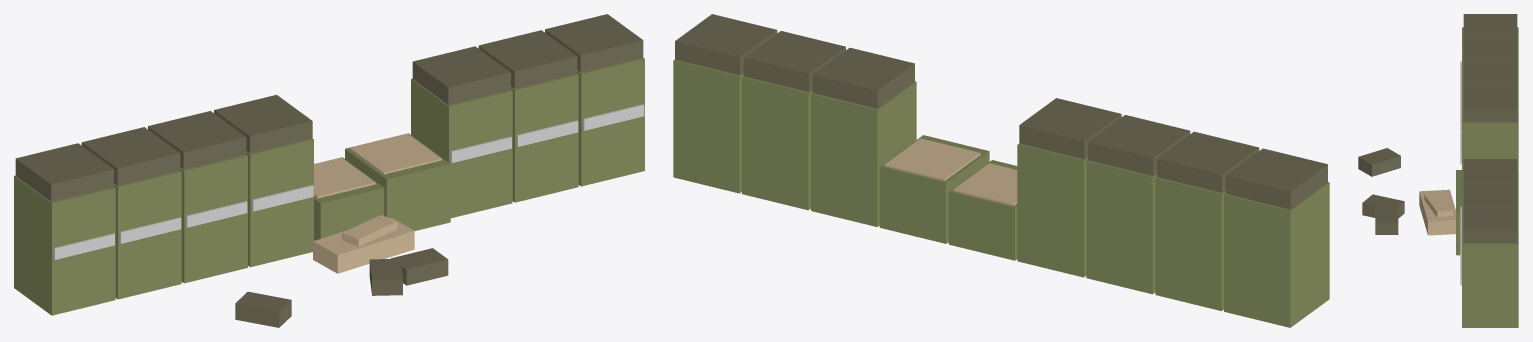
The model's file is SM_MuroHesco_v3_RemateSacos_e1_Danado_LOD1.fbx.
The picture shows the model from 3 angles, left to right: view 1: azimuth 30°, elevation 25°; view 2: azimuth 150°, elevation 25°; view 3: azimuth 270°, elevation 25°; orthographic projection. The views are drawn at different scales.
Visible parts, largest first — view 1: SM_bloques.muro_hesco_estados_v13_LOD1; view 2: SM_bloques.muro_hesco_estados_v13_LOD1; view 3: SM_bloques.muro_hesco_estados_v13_LOD1.
Part boxes in pixels (<box>): SM_bloques.muro_hesco_estados_v13_LOD1: <box>14,14,644,327</box>; SM_bloques.muro_hesco_estados_v13_LOD1: <box>673,14,1329,327</box>; SM_bloques.muro_hesco_estados_v13_LOD1: <box>1358,14,1518,327</box>.
Bounding box in the file's own units: 9.96 × 2.09 × 3.12.
